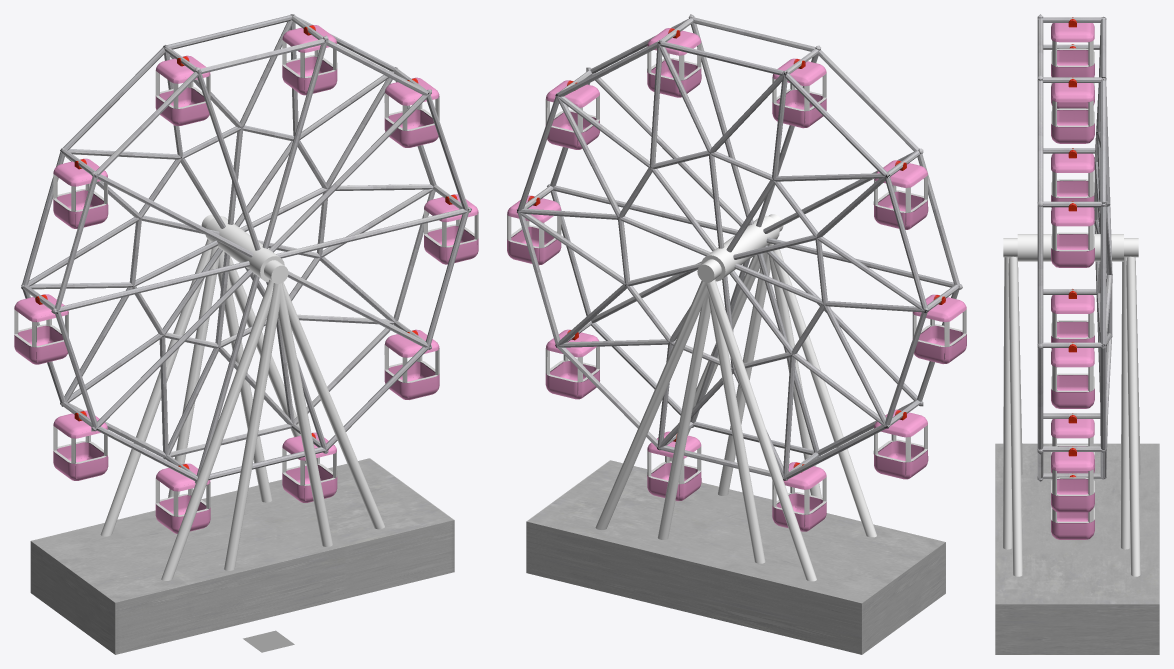
Rendered from FerrisWheel.fbx.
3 renders of one model, left to right at view 1: azimuth 30°, elevation 25°; view 2: azimuth 150°, elevation 25°; view 3: azimuth 270°, elevation 25°, orthographic. The views are drawn at different scales.
Parts seen in each view (by area): view 1: MASH2_ReproMesh, Stand, MASH1_ReproMesh, pasted__pasted__pCylinder3, pasted__pasted__pasted__pasted__pCylinder3, pasted__pCylinder3 (×2), pasted__pasted__pasted__pCylinder3, pPlane1; view 2: Stand, MASH2_ReproMesh, MASH1_ReproMesh, pasted__pCylinder3 (×2), pasted__pasted__pasted__pCylinder3, pasted__pasted__pCylinder3, pasted__pasted__pasted__pasted__pCylinder3; view 3: Stand, MASH1_ReproMesh, MASH2_ReproMesh, pasted__pCylinder3 (×2), pasted__pasted__pCylinder3, pasted__pasted__pasted__pasted__pCylinder3, pasted__pasted__pasted__pCylinder3, pCylinder3.
Boxes of the visible parts, <box> form: MASH2_ReproMesh: <box>21,14,471,483</box>; Stand: <box>30,458,454,654</box>; MASH1_ReproMesh: <box>14,25,478,533</box>; pasted__pasted__pCylinder3: <box>161,279,384,580</box>; pasted__pasted__pasted__pasted__pCylinder3: <box>224,283,332,570</box>; pasted__pCylinder3 (×2): <box>100,216,306,536</box>; pasted__pasted__pasted__pCylinder3: <box>168,246,272,502</box>; pPlane1: <box>243,630,294,652</box>; Stand: <box>526,460,945,654</box>; MASH2_ReproMesh: <box>517,14,962,480</box>; MASH1_ReproMesh: <box>507,28,966,531</box>; pasted__pCylinder3 (×2): <box>595,215,816,581</box>; pasted__pasted__pasted__pCylinder3: <box>657,279,765,563</box>; pasted__pasted__pCylinder3: <box>669,244,876,537</box>; pasted__pasted__pasted__pasted__pCylinder3: <box>718,252,821,497</box>; Stand: <box>995,443,1159,654</box>; MASH1_ReproMesh: <box>1051,17,1094,539</box>; MASH2_ReproMesh: <box>1037,14,1112,482</box>; pasted__pCylinder3 (×2): <box>1017,234,1140,576</box>; pasted__pasted__pCylinder3: <box>1008,256,1022,576</box>; pasted__pasted__pasted__pasted__pCylinder3: <box>1003,257,1012,549</box>; pasted__pasted__pasted__pCylinder3: <box>1120,257,1130,549</box>; pCylinder3: <box>1003,238,1138,257</box>.
Bounding box in the file's own units: 13.47 × 16.79 × 4.4.
